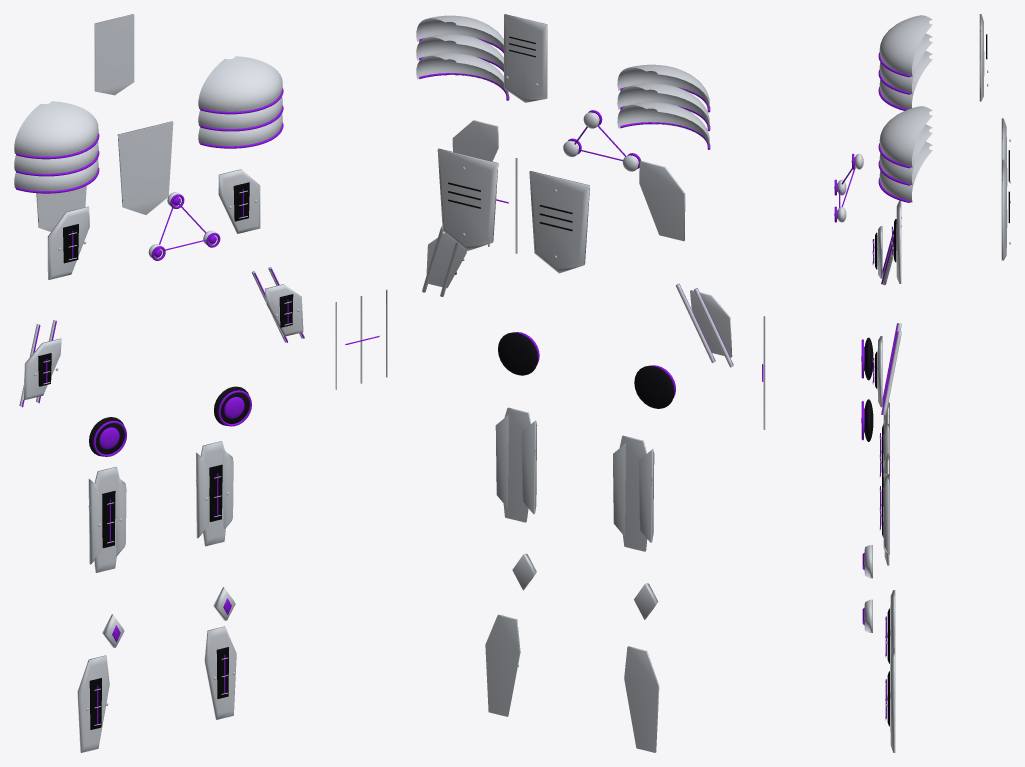
The model's file is Ione-new-parts.obj.
3 views of the same model, side by side, from view 1: azimuth 30°, elevation 25°; view 2: azimuth 150°, elevation 25°; view 3: azimuth 270°, elevation 25° (orthographic). The views are drawn at different scales.
Size of the model in its own units: 0.7472 by 1.58 by 0.5152.
